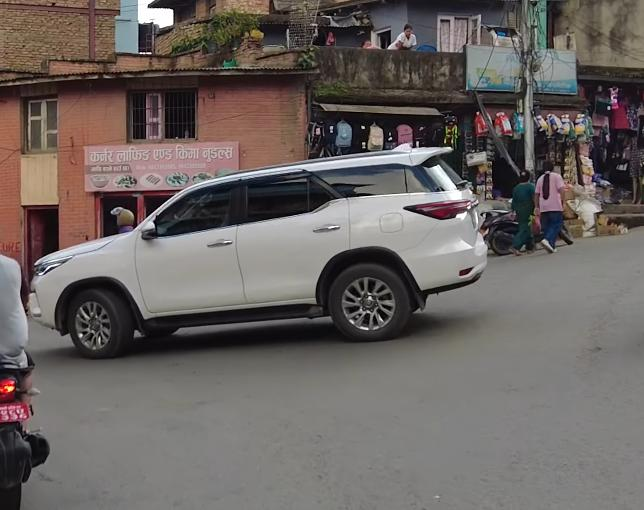SUV: (25, 135, 495, 358)
